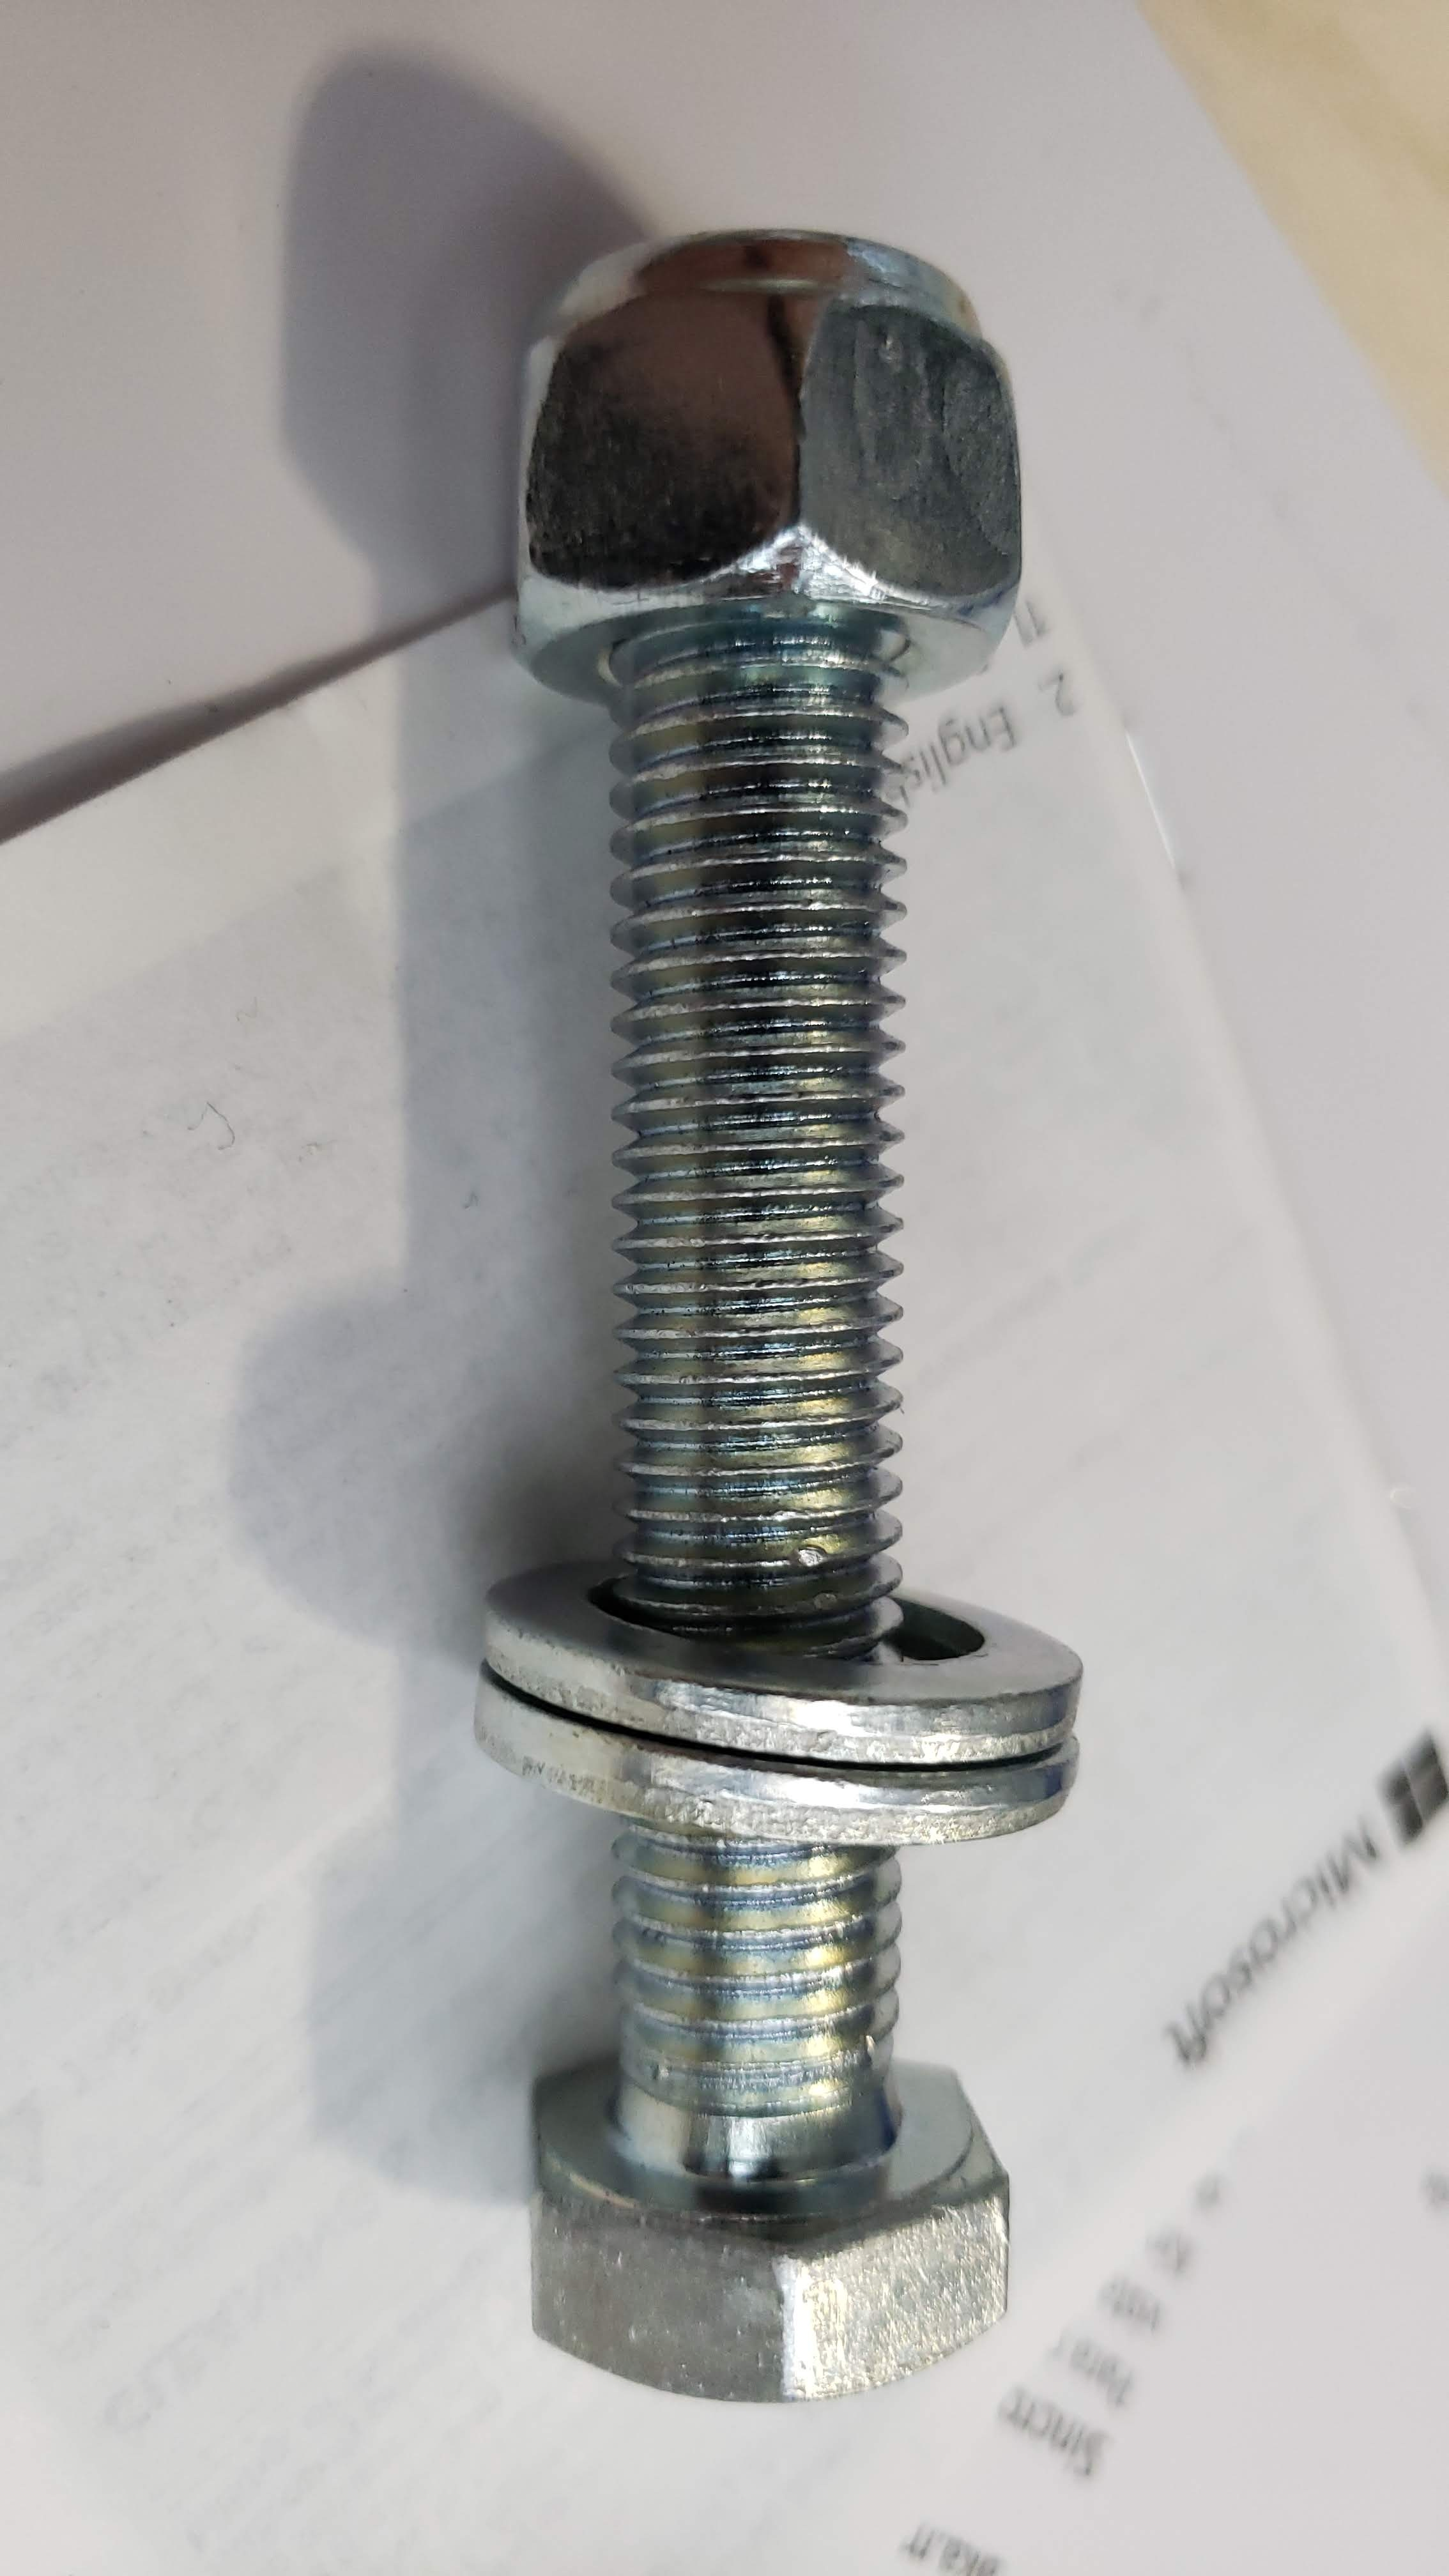FinishedAssembly: (391, 133, 1184, 2472)
